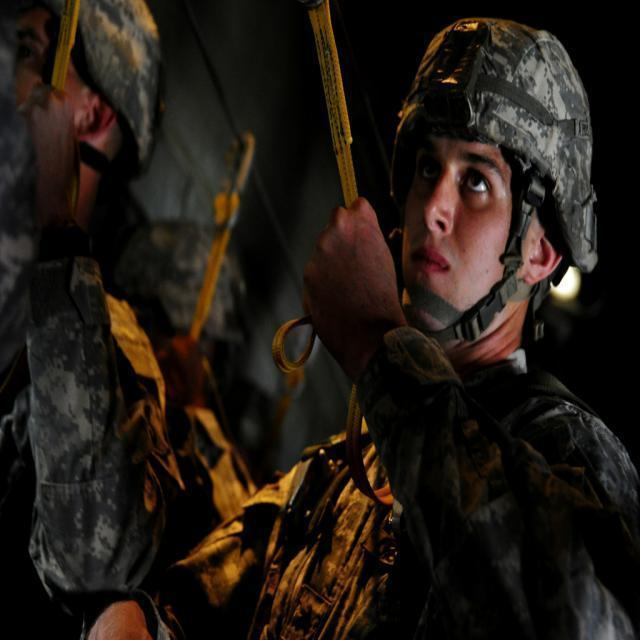closed-mouth: (410, 246, 447, 278)
